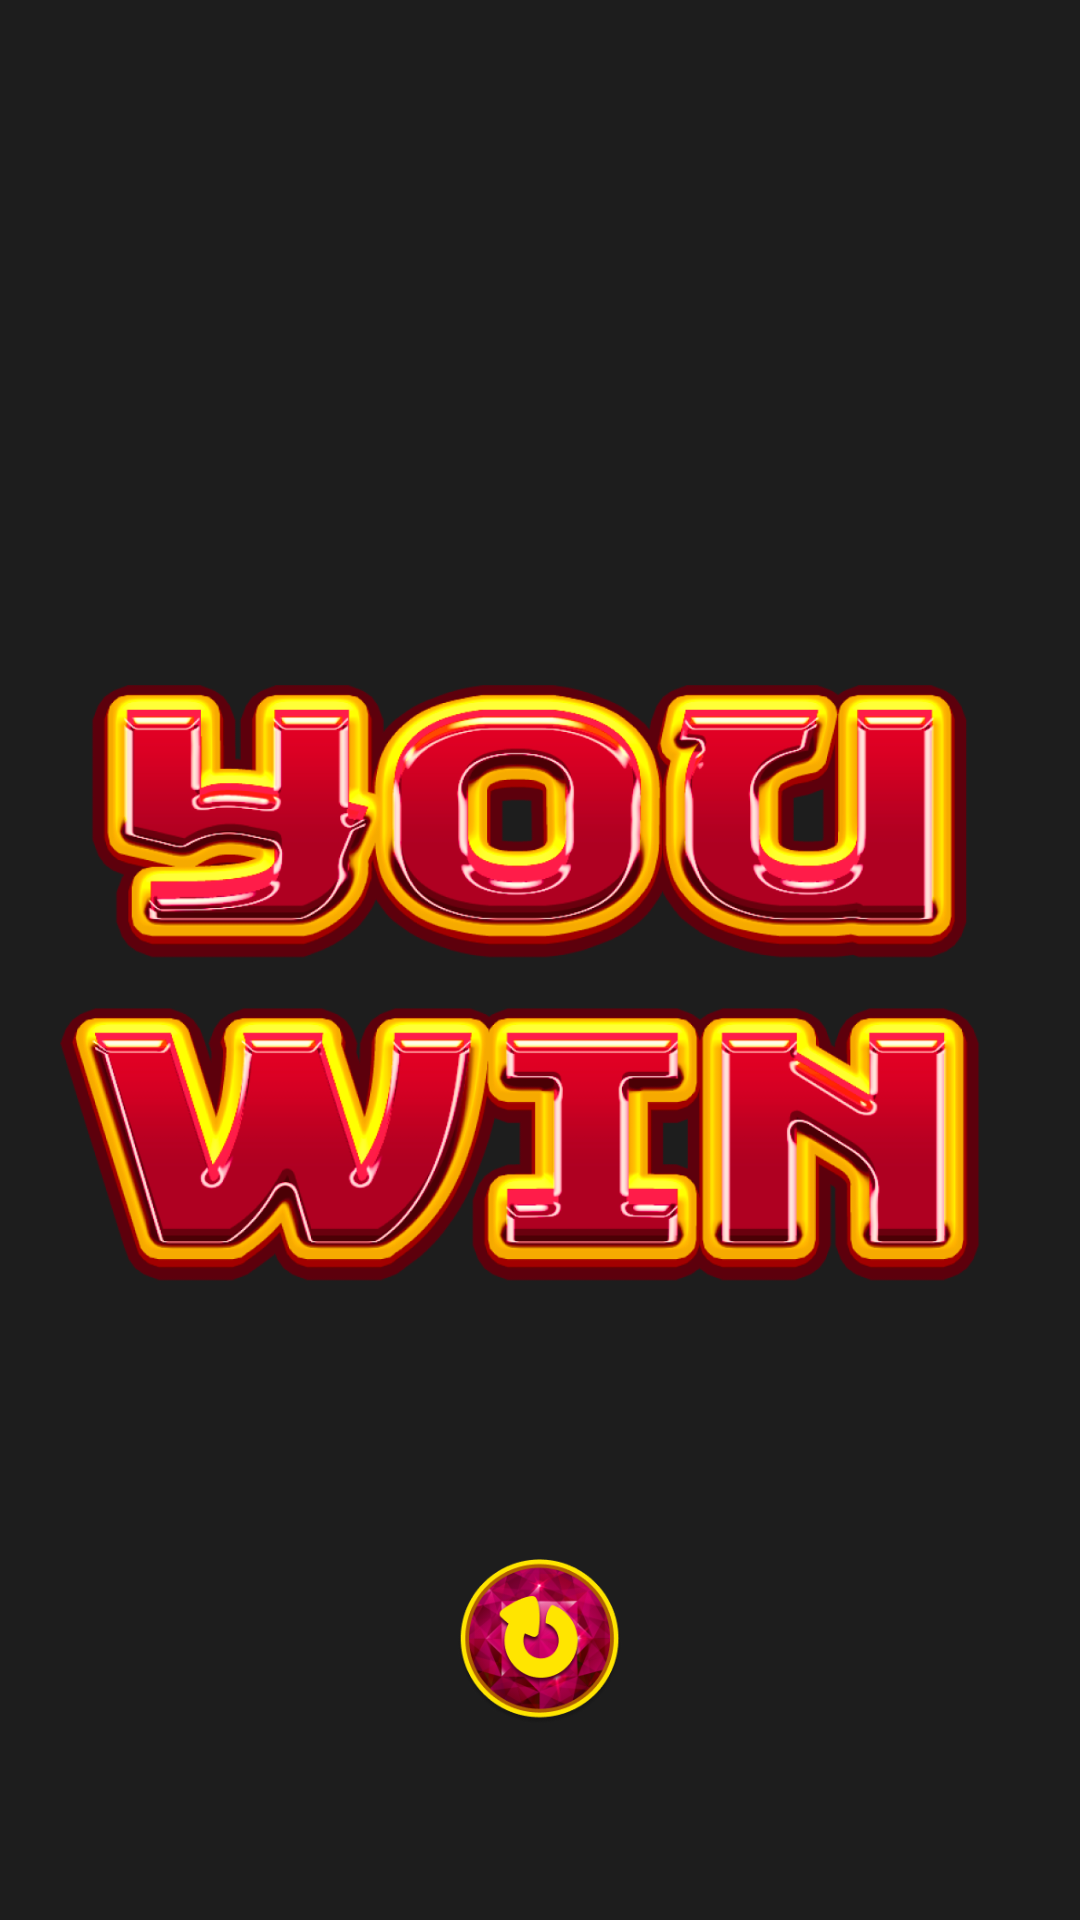

Screen size 1080x1920. Icon name, then its center in pixels as point (x, y):
again: point (539, 1638)
